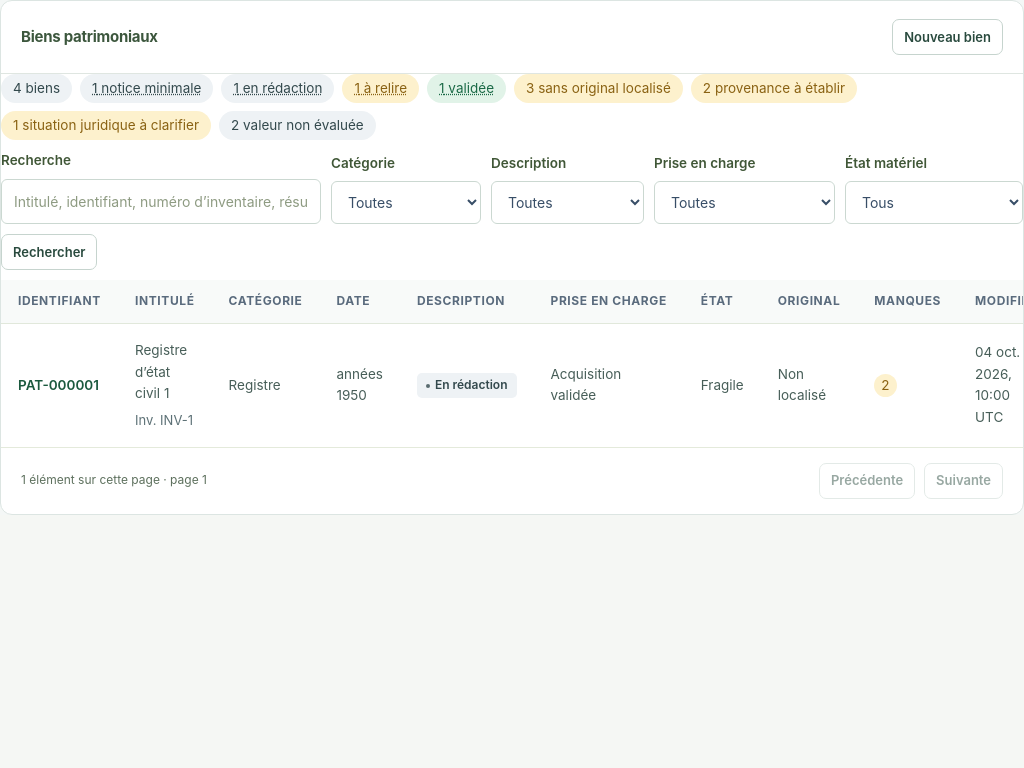
Test case: la fiche montre les états indépendants, dont trois calculés, les manques et le passage possible
What coordinates should you click on to do the following:
click the button "PAT-000001"
I would click on:
 (58, 385)
Its box is [18, 374, 99, 396].
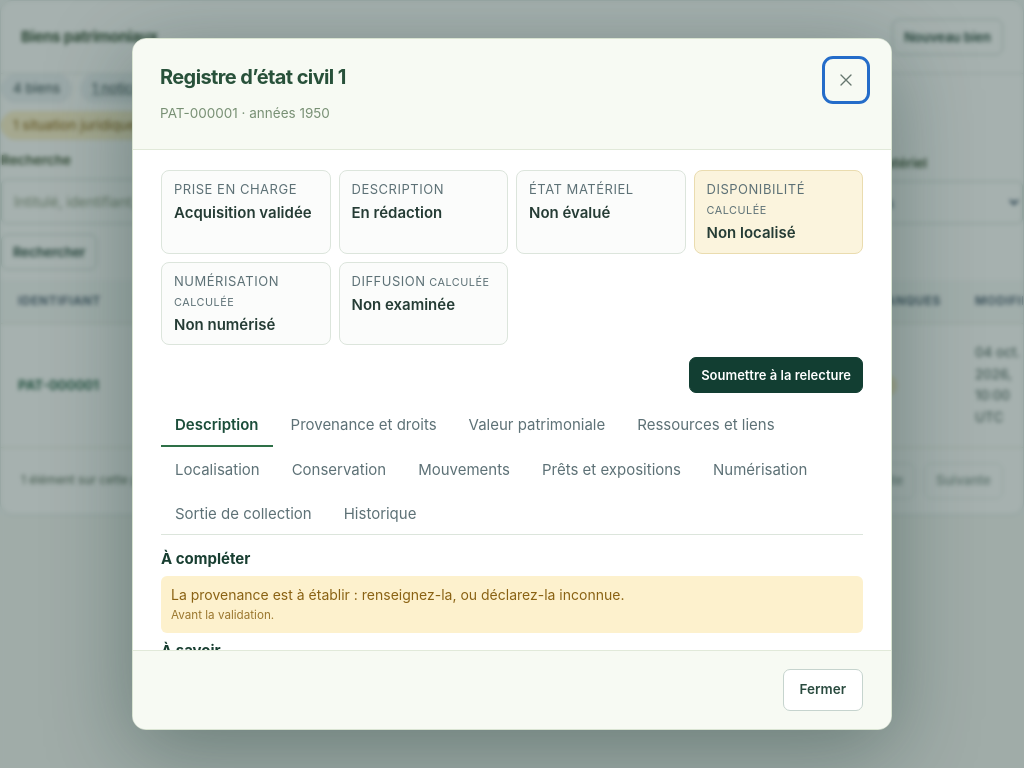
Now the element with class "asset-states" is shown, box [161, 170, 863, 346]
Now the text "Prise en charge" is shown, box [174, 179, 318, 199]
Now the text "Description" is shown, box [352, 181, 444, 197]
